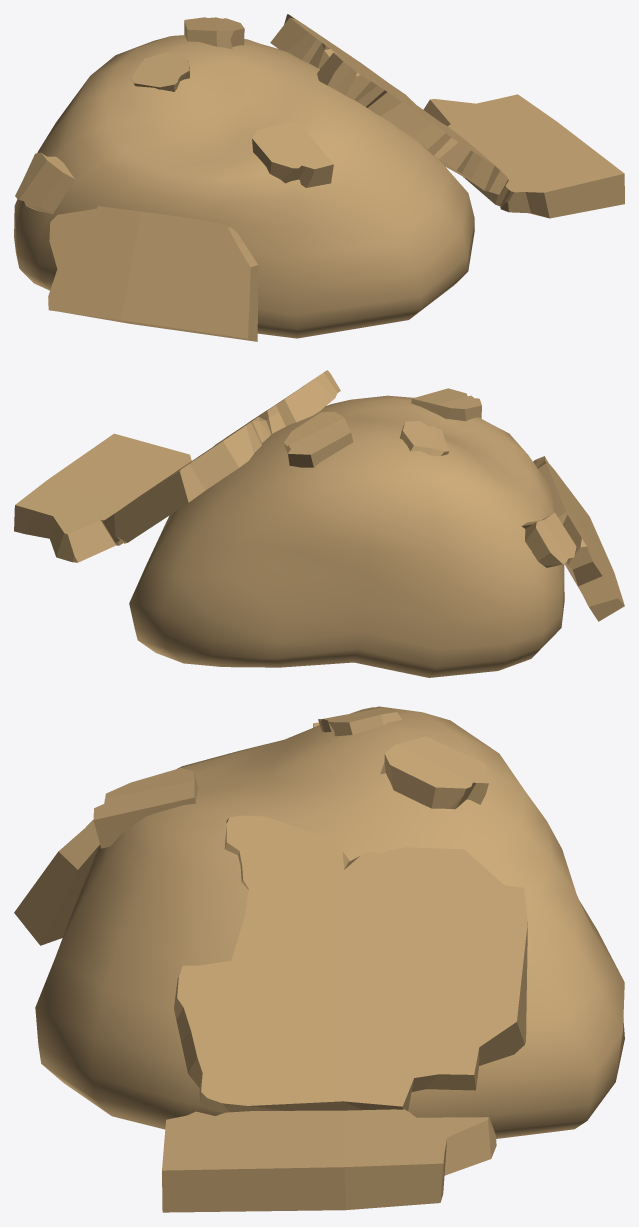
Rendered from Ruins_Rubble_Big.fbx.
3 views of the same model, one above another, from view 1: azimuth 30°, elevation 25°; view 2: azimuth 150°, elevation 25°; view 3: azimuth 270°, elevation 25° (orthographic). The views are drawn at different scales.
Parts seen in each view (by area): view 1: Rubble_Big, RubbleWallSeg.001, RubbleWallSeg, RubbleWallSeg.002, RubbleBrick_01, RubbleBrick_01.002, RubbleBrick_01.003, RubbleBrick_01.001; view 2: Rubble_Big, RubbleWallSeg, RubbleWallSeg.002, RubbleWallSeg.001, RubbleBrick_01.001, RubbleBrick_01.002, RubbleBrick_01, RubbleBrick_01.003; view 3: Rubble_Big, RubbleWallSeg.002, RubbleWallSeg, RubbleBrick_01.001, RubbleWallSeg.001, RubbleBrick_01, RubbleBrick_01.003.
Part boxes in pixels (x1=…): Rubble_Big: x1=14, y1=35, x2=474, y2=338; RubbleWallSeg.001: x1=48, y1=206, x2=258, y2=341; RubbleWallSeg: x1=423, y1=94, x2=624, y2=218; RubbleWallSeg.002: x1=270, y1=14, x2=508, y2=194; RubbleBrick_01: x1=252, y1=120, x2=333, y2=187; RubbleBrick_01.002: x1=15, y1=152, x2=74, y2=213; RubbleBrick_01.003: x1=131, y1=52, x2=189, y2=91; RubbleBrick_01.001: x1=184, y1=17, x2=244, y2=49; Rubble_Big: x1=129, y1=395, x2=564, y2=677; RubbleWallSeg: x1=14, y1=433, x2=191, y2=562; RubbleWallSeg.002: x1=103, y1=370, x2=340, y2=543; RubbleWallSeg.001: x1=533, y1=456, x2=624, y2=621; RubbleBrick_01.001: x1=284, y1=411, x2=353, y2=467; RubbleBrick_01.002: x1=521, y1=512, x2=576, y2=567; RubbleBrick_01: x1=411, y1=388, x2=481, y2=421; RubbleBrick_01.003: x1=400, y1=421, x2=449, y2=456; Rubble_Big: x1=35, y1=706, x2=624, y2=1138; RubbleWallSeg.002: x1=174, y1=815, x2=527, y2=1113; RubbleWallSeg: x1=162, y1=1109, x2=496, y2=1212; RubbleBrick_01.001: x1=380, y1=736, x2=488, y2=809; RubbleWallSeg.001: x1=14, y1=820, x2=99, y2=945; RubbleBrick_01: x1=93, y1=768, x2=198, y2=848; RubbleBrick_01.003: x1=318, y1=707, x2=401, y2=736.
Bounding box in the file's own units: 504 × 201 × 359.
